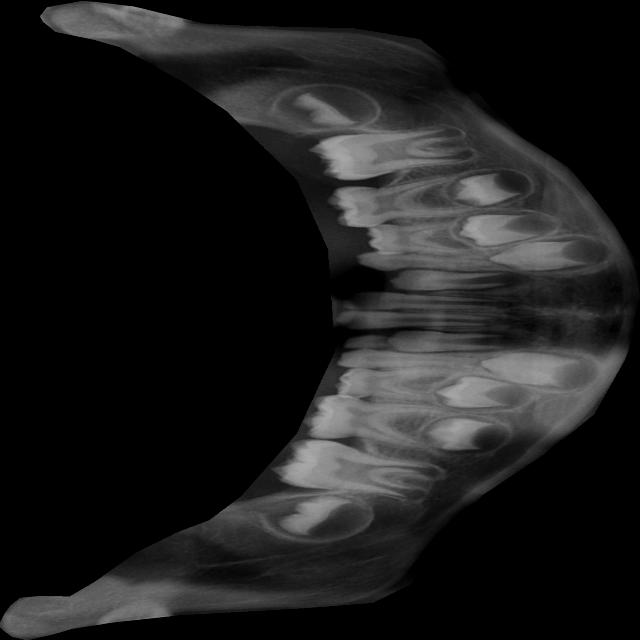mandibula: (0, 0, 640, 640)
